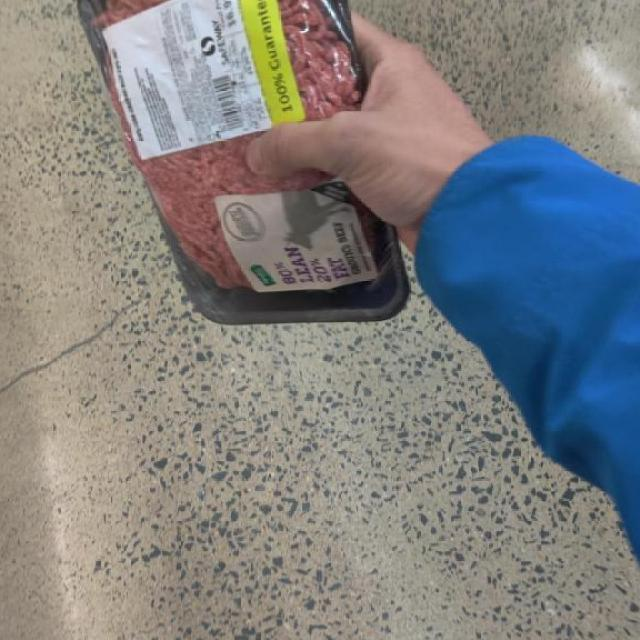Meat: (76, 0, 434, 328)
